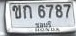txt01: (22, 4, 33, 20)
txt02: (11, 4, 22, 19)
